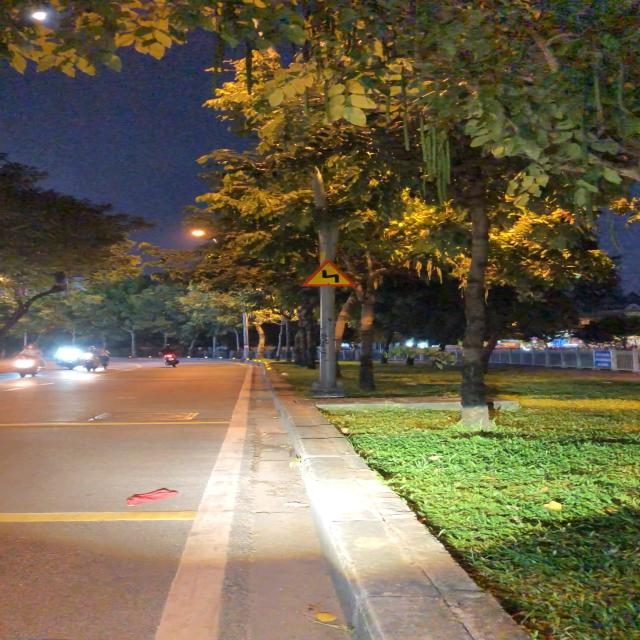Bien bao nhieu cho ngoat nguy hiem lien tiep: (300, 258, 360, 288)
